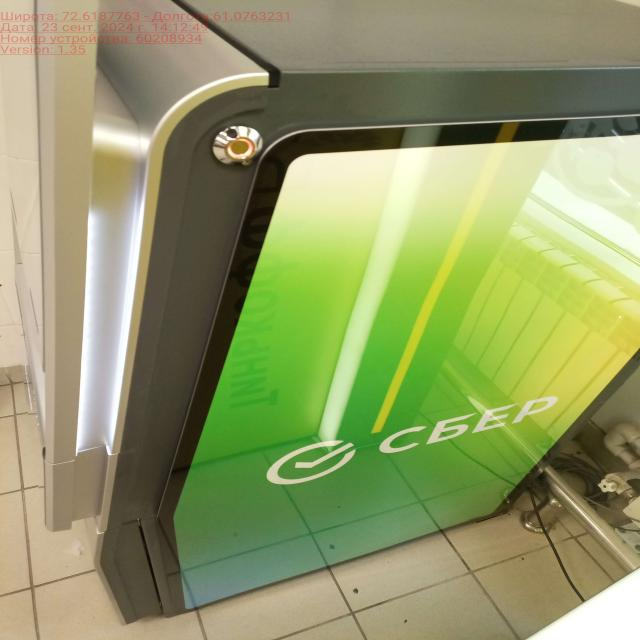bank: (35, 0, 640, 612)
